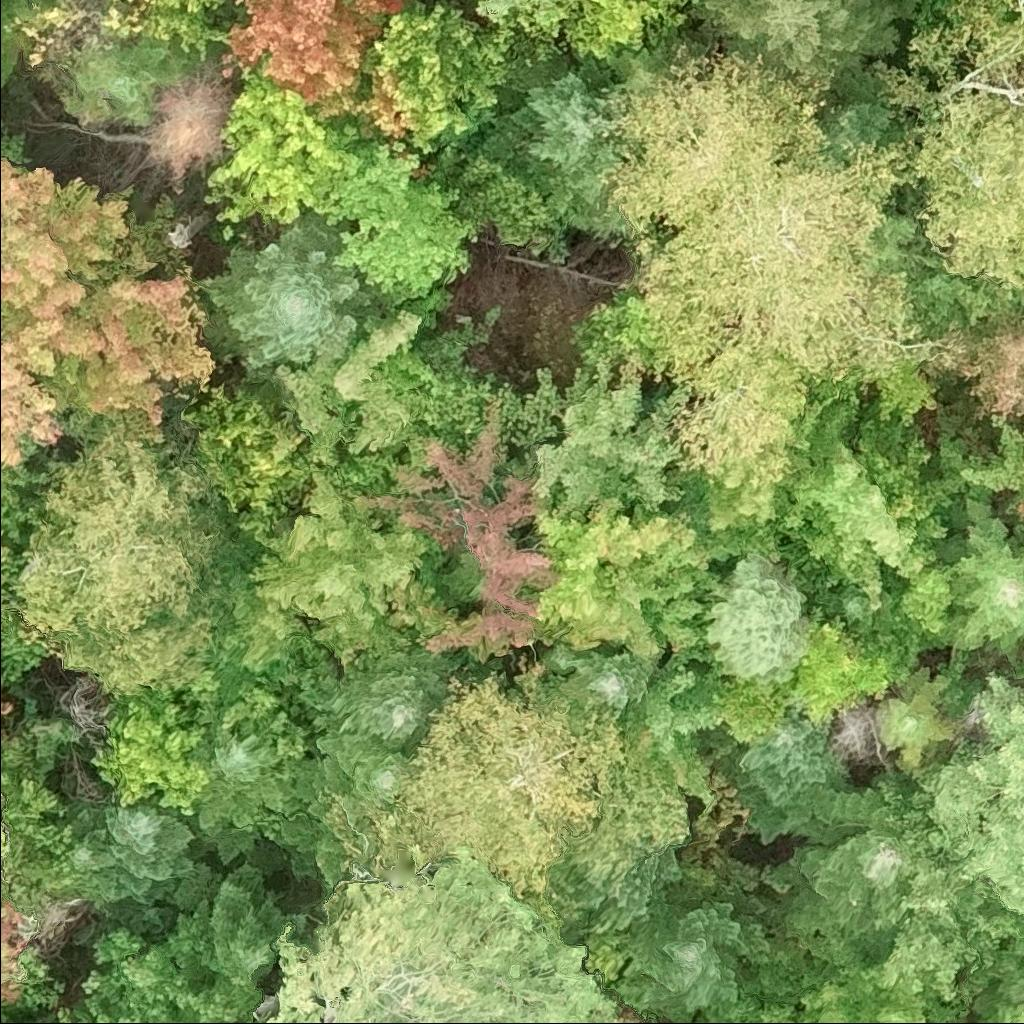crown: (577, 136, 936, 489), (0, 155, 224, 467), (1, 437, 259, 703), (262, 842, 630, 1023), (373, 649, 628, 895), (860, 668, 1023, 1006), (363, 394, 563, 664), (603, 42, 837, 232), (234, 467, 459, 661), (777, 403, 974, 610), (272, 307, 471, 499), (870, 60, 1023, 289), (198, 207, 388, 384), (530, 498, 717, 659), (768, 775, 915, 973), (343, 0, 520, 157), (483, 54, 622, 248), (529, 361, 692, 525), (313, 137, 478, 295), (205, 60, 363, 224), (607, 894, 787, 1023), (217, 0, 406, 118), (159, 857, 326, 987), (274, 729, 408, 888), (692, 0, 922, 77), (725, 708, 848, 849), (81, 927, 261, 1023), (88, 685, 212, 821), (190, 717, 303, 866), (307, 647, 462, 752), (618, 642, 722, 797), (934, 494, 1023, 674), (208, 578, 333, 702), (704, 553, 810, 683), (792, 616, 906, 734), (64, 35, 203, 129), (925, 311, 1023, 439), (98, 792, 201, 903), (542, 643, 661, 729), (882, 664, 973, 771), (826, 937, 924, 1023), (563, 0, 698, 60), (925, 0, 1023, 82), (933, 419, 1023, 501), (815, 568, 913, 639), (59, 802, 129, 901), (600, 25, 685, 99), (967, 935, 1023, 1023), (144, 0, 227, 56), (0, 879, 34, 1007), (788, 968, 861, 1023), (0, 0, 42, 87), (0, 461, 44, 544), (475, 0, 575, 35), (0, 541, 14, 633), (58, 1005, 121, 1023), (742, 1006, 795, 1023), (996, 997, 1023, 1023), (0, 823, 16, 861), (1012, 493, 1023, 523), (0, 790, 6, 816)
